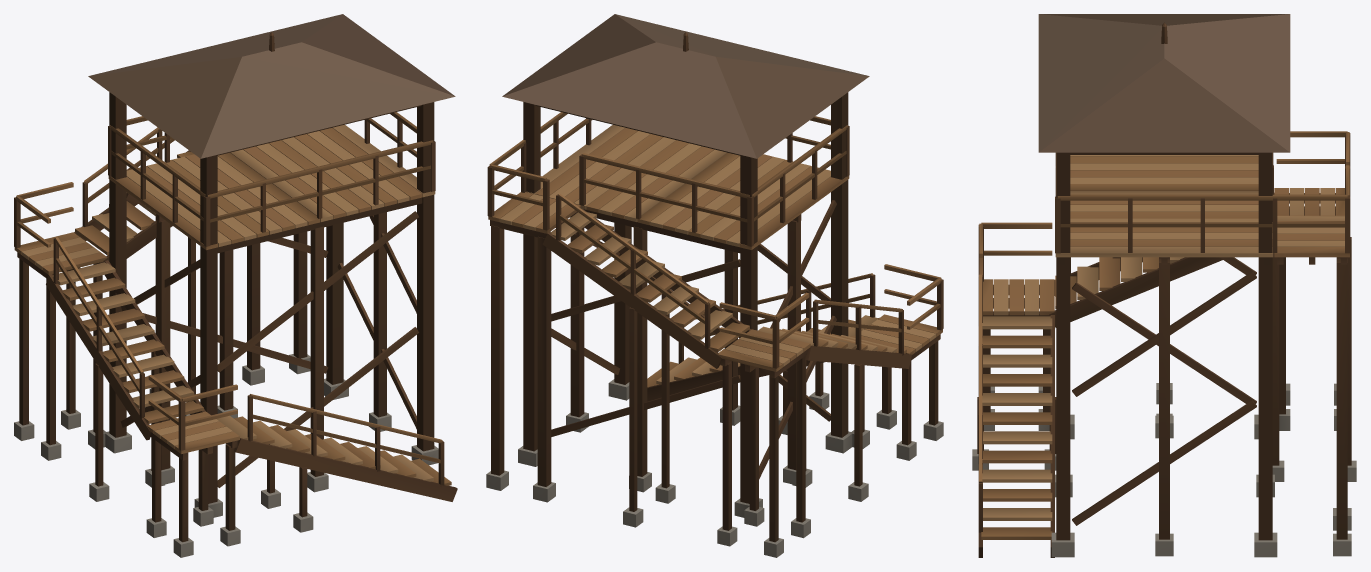
The model's file is lookout_tower_low.glb.
3 renders of one model, left to right at view 1: azimuth 30°, elevation 25°; view 2: azimuth 150°, elevation 25°; view 3: azimuth 270°, elevation 25°, orthographic. The views are drawn at different scales.
Visible parts, largest first — view 1: lookout_tower; view 2: lookout_tower; view 3: lookout_tower.
Part boxes in pixels (x1,y1,x2,y2): lookout_tower: (14, 14, 457, 557); lookout_tower: (486, 14, 943, 557); lookout_tower: (972, 14, 1356, 557).
Size of the model in its own units: 7.21 by 9.74 by 7.02.
